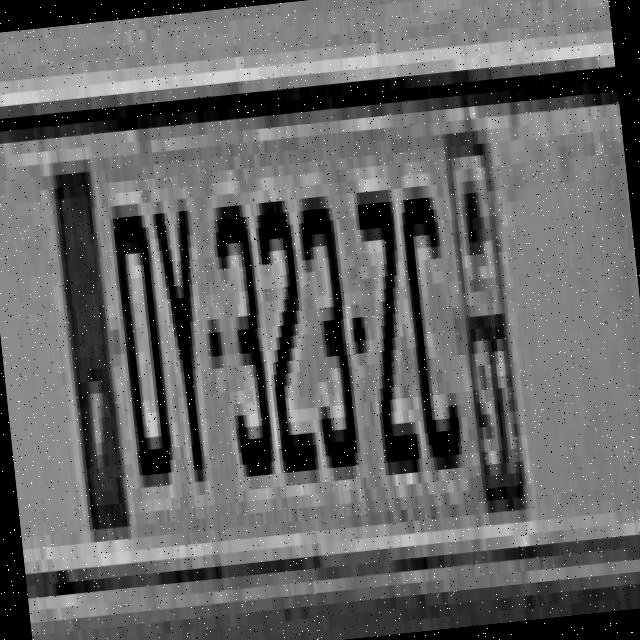EU: (47, 118, 532, 537)
France: (52, 162, 130, 536)
